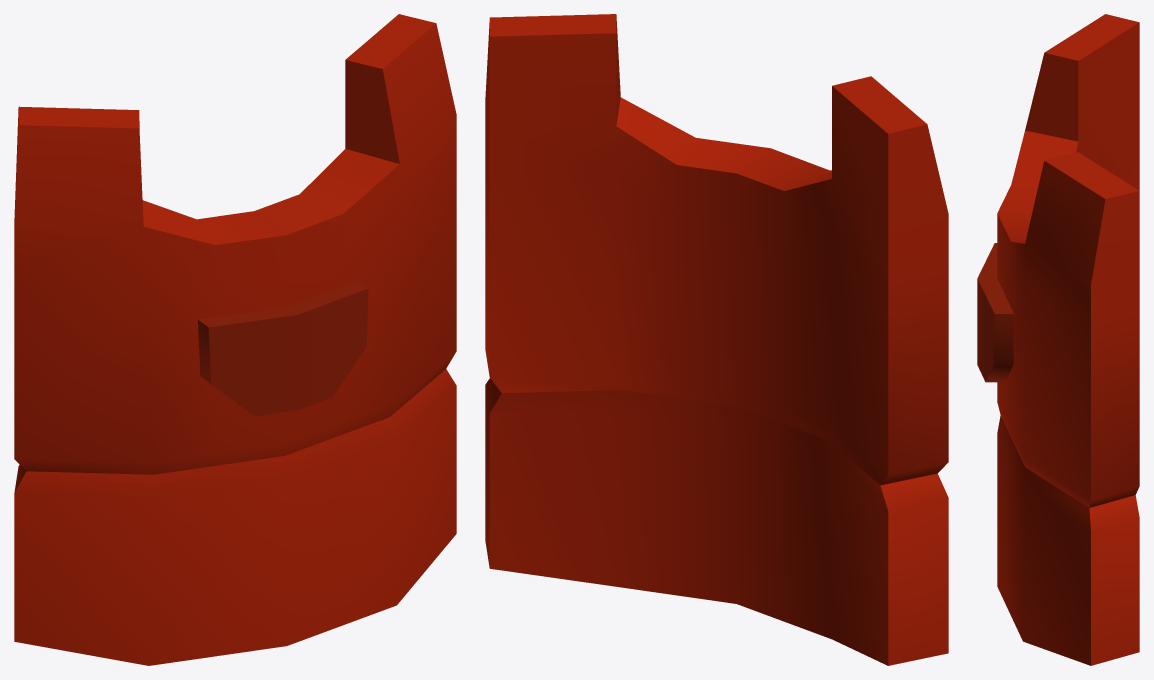
The model's file is Body_Prop_Cooking_Apron_01.fbx.
3 renders of one model, left to right at view 1: azimuth 30°, elevation 25°; view 2: azimuth 150°, elevation 25°; view 3: azimuth 270°, elevation 25°, orthographic. The views are drawn at different scales.
Parts seen in each view (by area): view 1: Body_Prop_Cooking_Apron_01; view 2: Body_Prop_Cooking_Apron_01; view 3: Body_Prop_Cooking_Apron_01.
Boxes of the visible parts, bbox=[...] form: Body_Prop_Cooking_Apron_01: bbox=[14, 14, 456, 665]; Body_Prop_Cooking_Apron_01: bbox=[485, 14, 948, 665]; Body_Prop_Cooking_Apron_01: bbox=[977, 14, 1139, 665].
Bounding box in the file's own units: 78.47 × 89.58 × 27.44.
